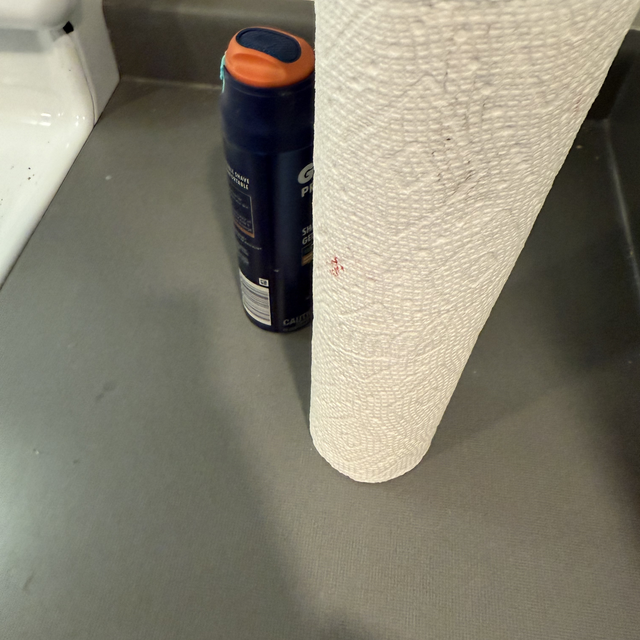Paper Towel: (301, 10, 586, 492)
